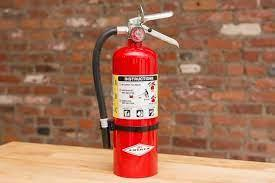floor-kept: (83, 5, 189, 183)
